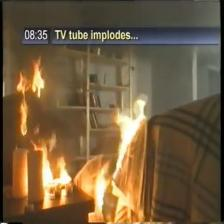fire: (15, 63, 63, 201), (116, 94, 149, 149), (95, 166, 106, 210)
